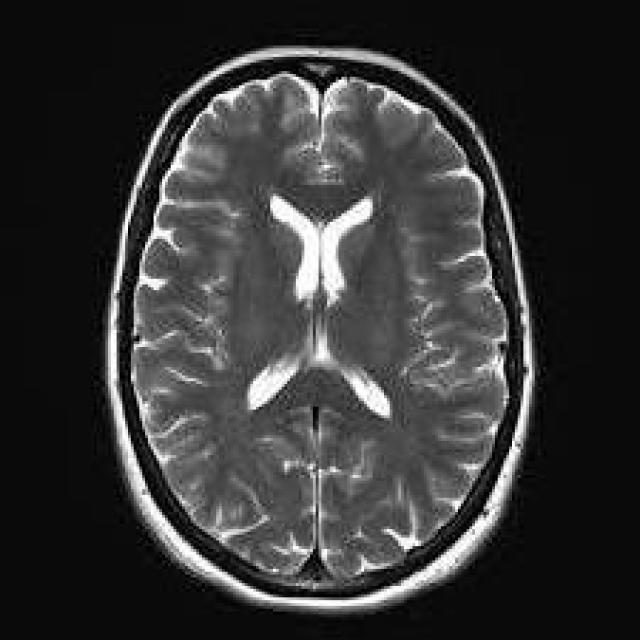notumor: (105, 48, 529, 609)
